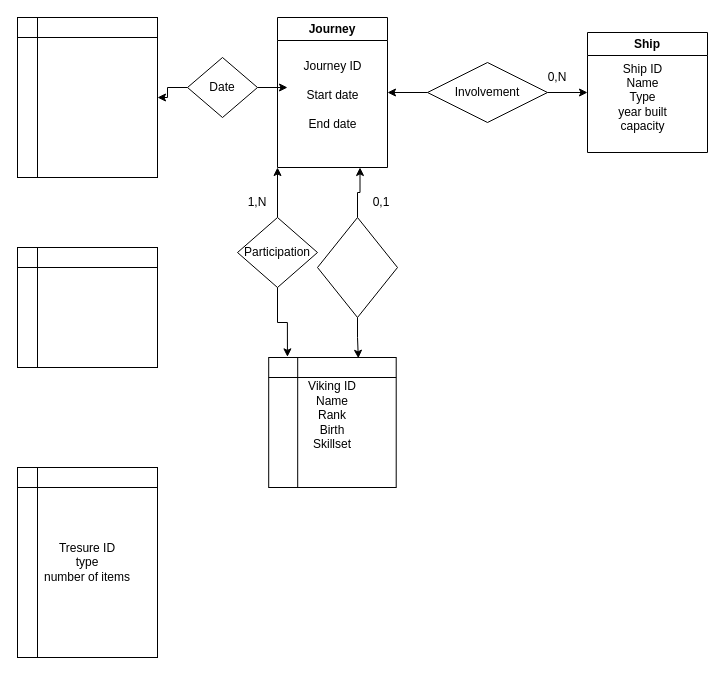
The diagram is 725 pixels wide and 675 high, and some of its shapes have lost their labels. Here are the shapes that lost their labels. From the top down, the centre of each, then its label:
At [87,97]: "Raid Id Target location".
At [357,267]: "Leader".
At [87,307]: "Battle ID Opposing force Location dead Vikings outcome".
